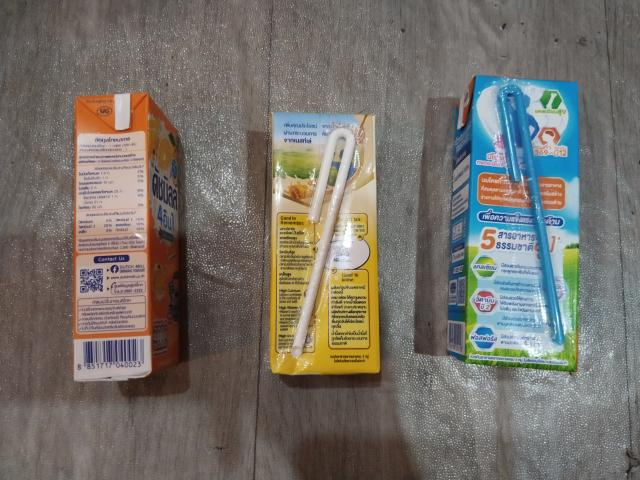drink_box: (448, 74, 595, 375), (71, 88, 195, 382), (260, 107, 389, 386)
